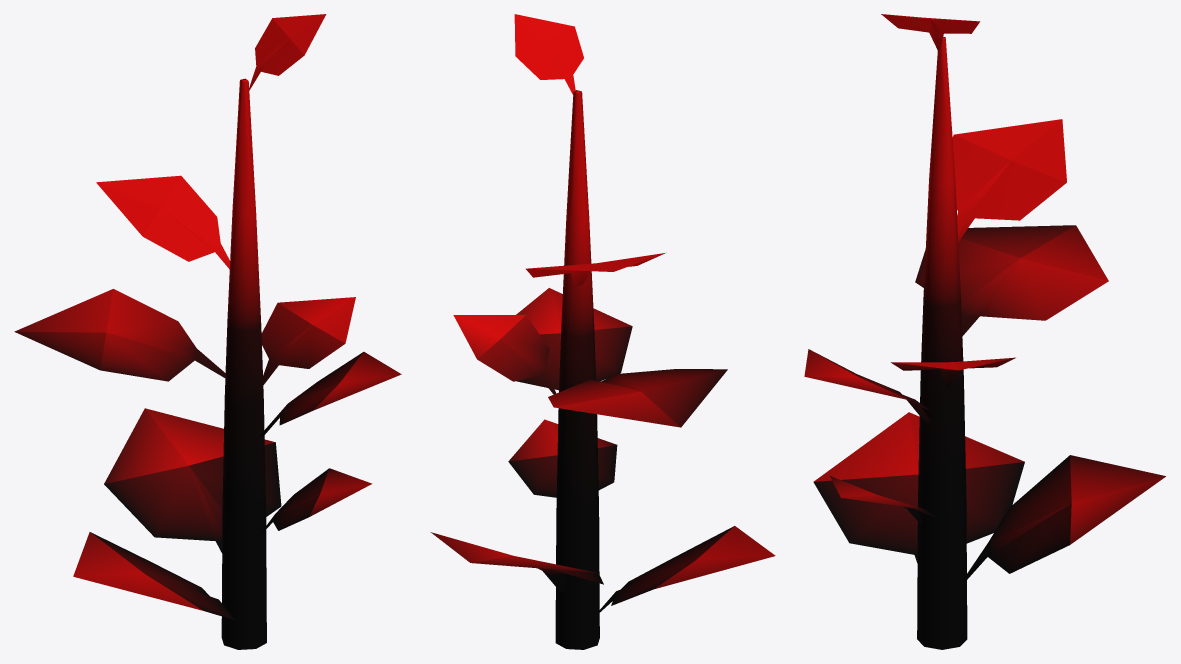
The model's file is SM_Branch_01_LOD1.fbx.
The picture shows the model from 3 angles, left to right: view 1: azimuth 30°, elevation 25°; view 2: azimuth 150°, elevation 25°; view 3: azimuth 270°, elevation 25°; orthographic projection. The views are drawn at different scales.
Visible parts, largest first — view 1: Branch_01_LOD1; view 2: Branch_01_LOD1; view 3: Branch_01_LOD1.
Part boxes in pixels (x1,y1,x2,y2): Branch_01_LOD1: (14, 14, 401, 649); Branch_01_LOD1: (430, 14, 775, 649); Branch_01_LOD1: (804, 14, 1165, 649).
Bounding box in the file's own units: 75.77 × 146 × 72.36.
